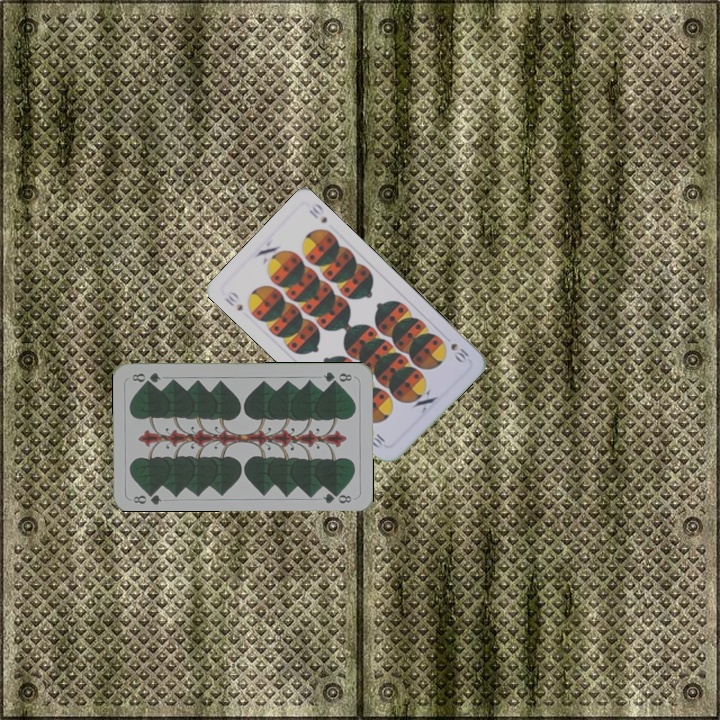G8: (130, 487, 164, 506), (319, 368, 354, 385)
S10: (446, 339, 471, 366), (221, 287, 246, 314)
